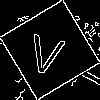V: (25, 25, 68, 77)
